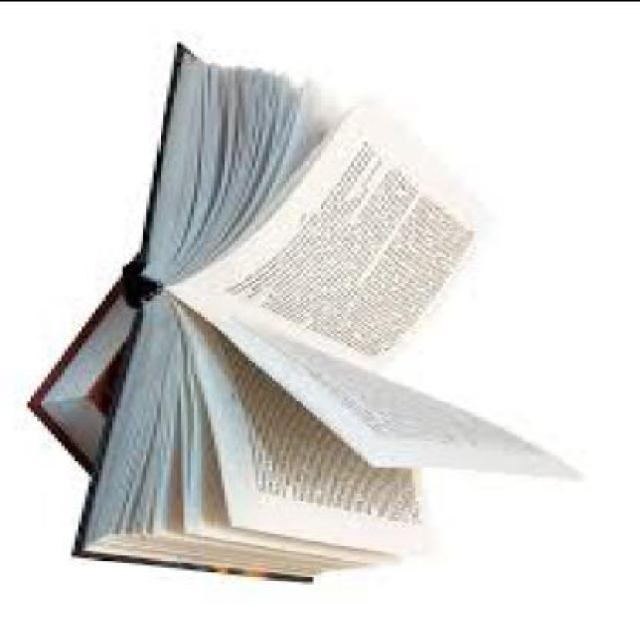PAPER: (74, 43, 588, 585), (174, 105, 503, 367), (174, 292, 589, 479), (177, 299, 435, 563), (27, 265, 139, 480)
